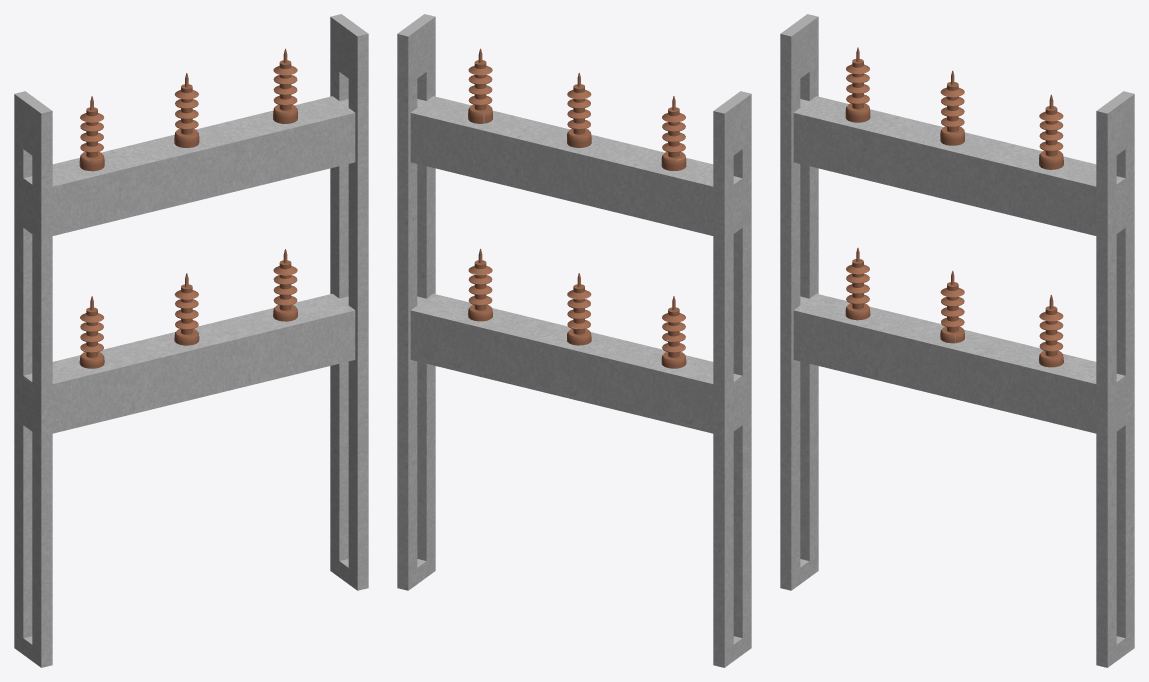
File: Transform Pole.fbx
3 renders of one model, left to right at view 1: azimuth 30°, elevation 25°; view 2: azimuth 150°, elevation 25°; view 3: azimuth 330°, elevation 25°, orthographic.
Visible parts, largest first — view 1: Transform pole; view 2: Transform pole; view 3: Transform pole.
Part boxes in pixels (x1=…): Transform pole: x1=14, y1=14, x2=368, y2=667; Transform pole: x1=397, y1=14, x2=751, y2=667; Transform pole: x1=780, y1=14, x2=1134, y2=667.
Bounding box in the file's own units: 218 × 353 × 31.44.
